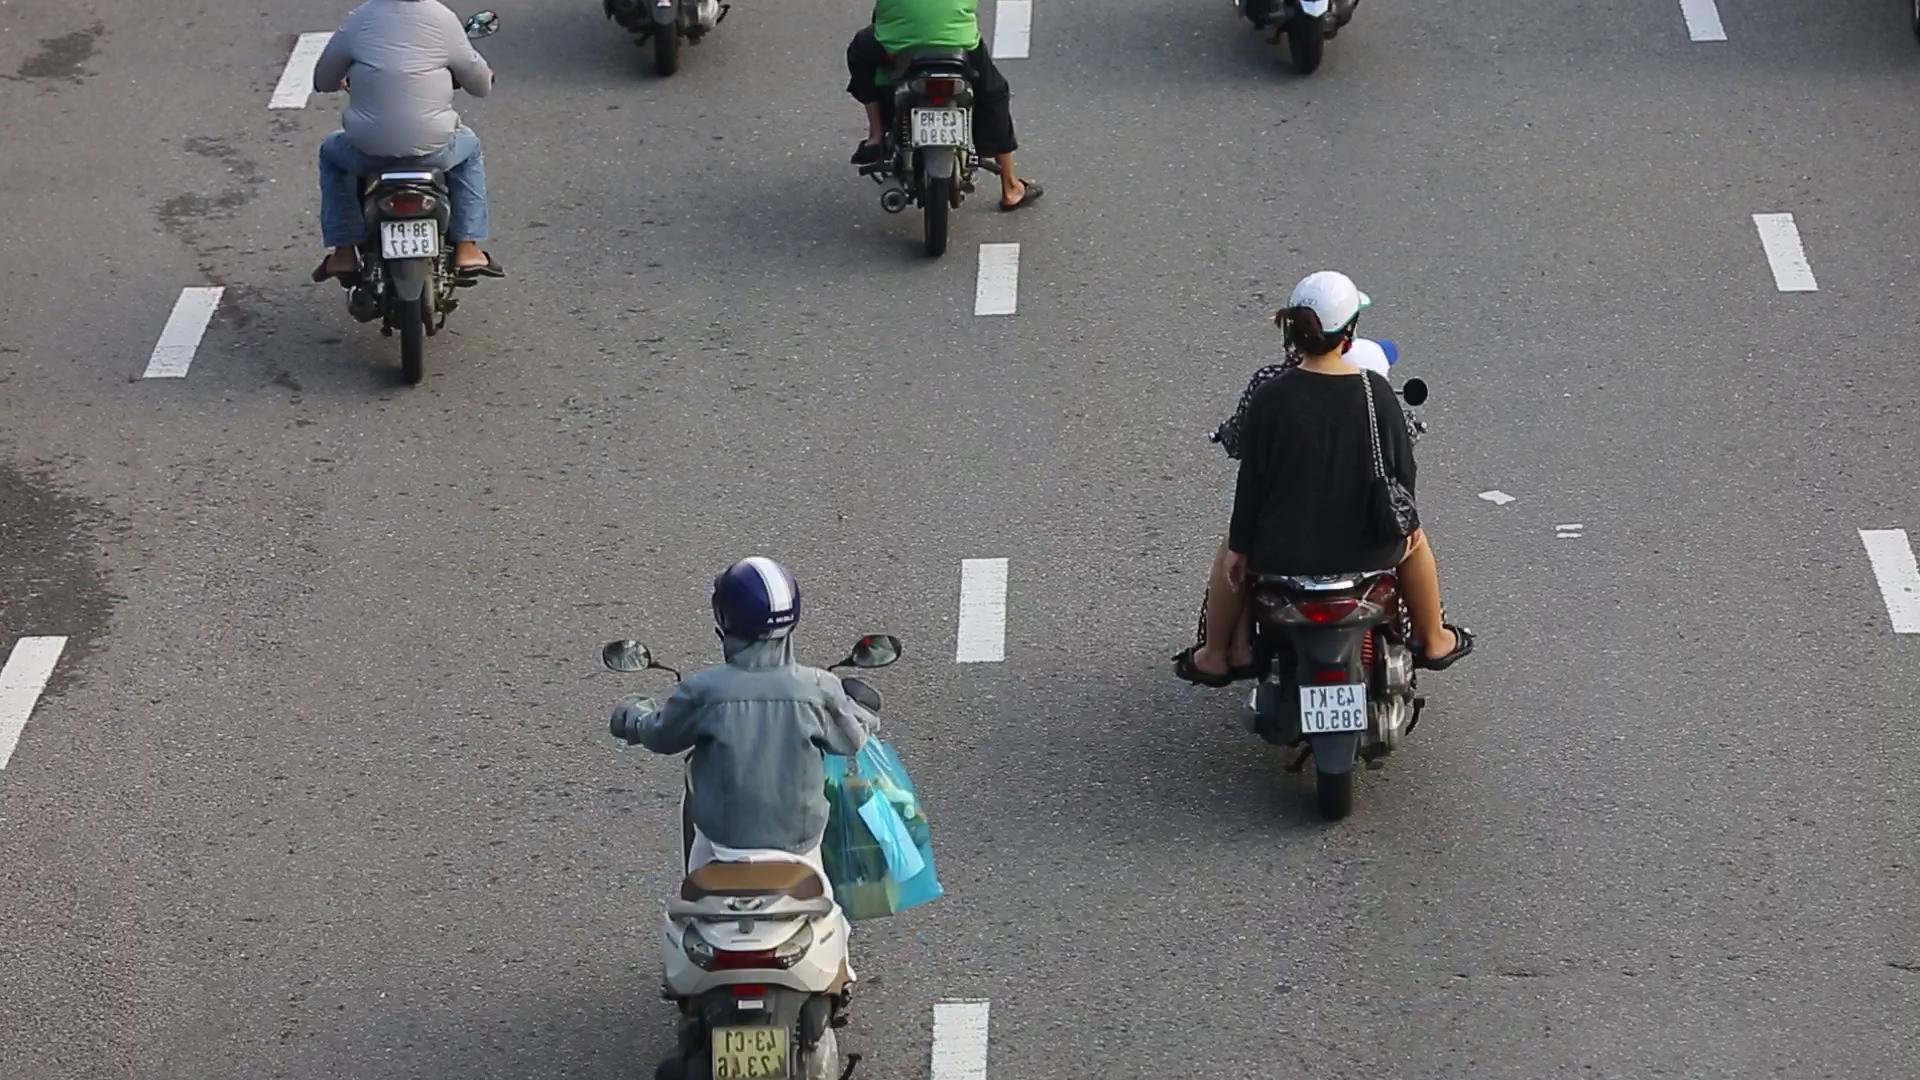motobike: (1170, 265, 1472, 811)
